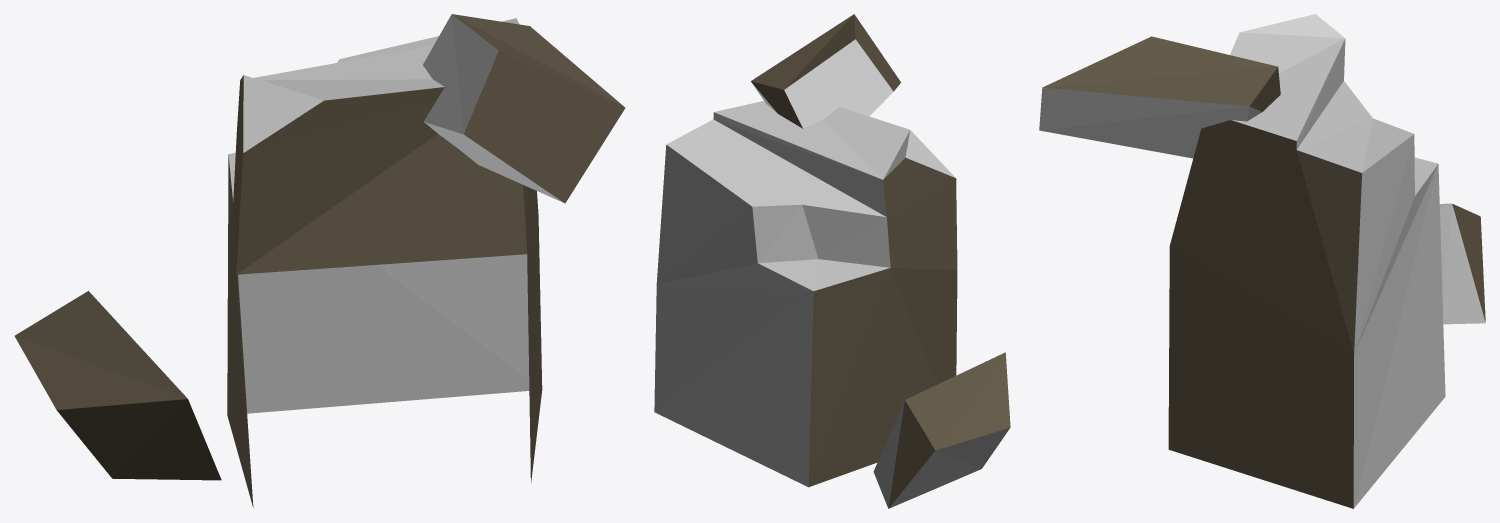
The model's file is TPL_EVT_BRIDGEBROKEN_01.OBJ.
3 views of the same model, side by side, from view 1: azimuth 30°, elevation 25°; view 2: azimuth 150°, elevation 25°; view 3: azimuth 270°, elevation 25° (orthographic). The views are drawn at different scales.
Parts seen in each view (by area): view 1: TPL_EVT_BRIDGEBROKEN_01; view 2: TPL_EVT_BRIDGEBROKEN_01; view 3: TPL_EVT_BRIDGEBROKEN_01.
Boxes of the visible parts, <box> form: TPL_EVT_BRIDGEBROKEN_01: <box>14,14,625,507</box>; TPL_EVT_BRIDGEBROKEN_01: <box>654,14,1010,508</box>; TPL_EVT_BRIDGEBROKEN_01: <box>1039,14,1485,508</box>.
Size of the model in its own units: 15.78 by 14.36 by 14.36.
